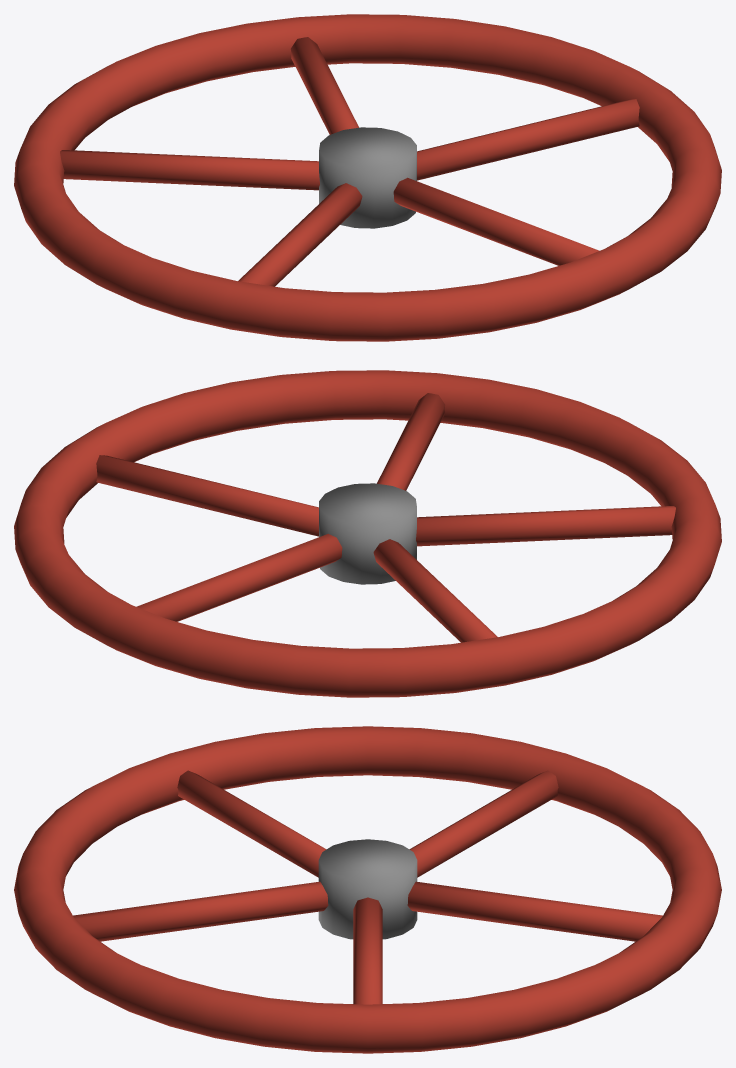
The model's file is valvewheel.glb.
The picture shows the model from 3 angles, top to bottom: view 1: azimuth 30°, elevation 25°; view 2: azimuth 150°, elevation 25°; view 3: azimuth 270°, elevation 25°; orthographic projection.
Visible parts, largest first — view 1: rim, spoke.005, hub, spoke.003, spoke.007, spoke.006, spoke.004; view 2: rim, spoke.006, hub, spoke.003, spoke.004, spoke.005, spoke.007; view 3: rim, hub, spoke.004, spoke.007, spoke.005, spoke.006, spoke.003.
Boxes of the visible parts, x1,y1,x2,y2 form: rim: (14,14,721,341); spoke.005: (60,150,319,190); hub: (319,127,416,228); spoke.003: (417,99,639,180); spoke.007: (393,177,599,265); spoke.006: (238,183,362,286); spoke.004: (290,37,358,134); rim: (14,370,721,697); spoke.006: (416,506,675,546); hub: (319,483,416,584); spoke.003: (96,455,318,536); spoke.004: (136,533,342,621); spoke.005: (373,539,497,642); spoke.007: (377,393,445,490); rim: (14,726,721,1053); hub: (318,839,417,939); spoke.004: (407,881,662,941); spoke.007: (73,881,328,941); spoke.005: (409,770,558,877); spoke.006: (177,770,326,877); spoke.003: (353,897,382,1004).
Bounding box in the file's own units: 0.86 × 0.08 × 0.86.
